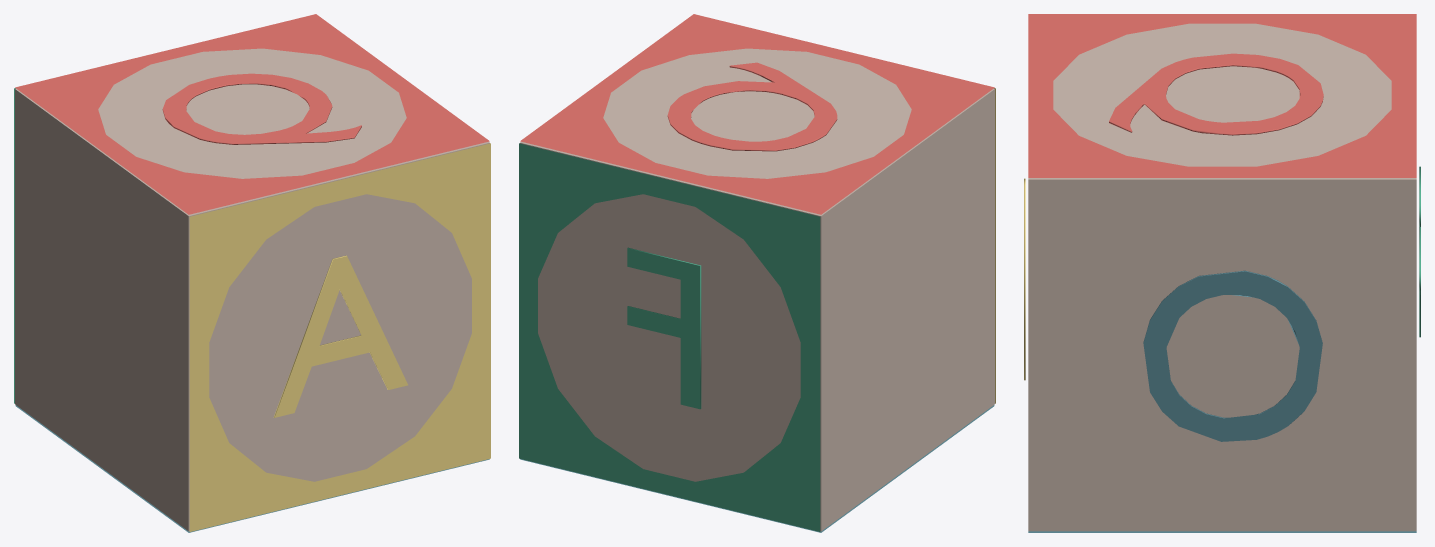
3 views of the same model, side by side, from view 1: azimuth 30°, elevation 25°; view 2: azimuth 150°, elevation 25°; view 3: azimuth 270°, elevation 25° (orthographic). The views are drawn at different scales.
Parts seen in each view (by area): view 1: cube; view 2: cube; view 3: cube.
Boxes of the visible parts, x1,y1,x2,y2 form: cube: (14,14,490,532); cube: (519,14,995,532); cube: (1024,14,1420,532).
Size of the model in its own units: 0.0453 by 0.046 by 0.046.
